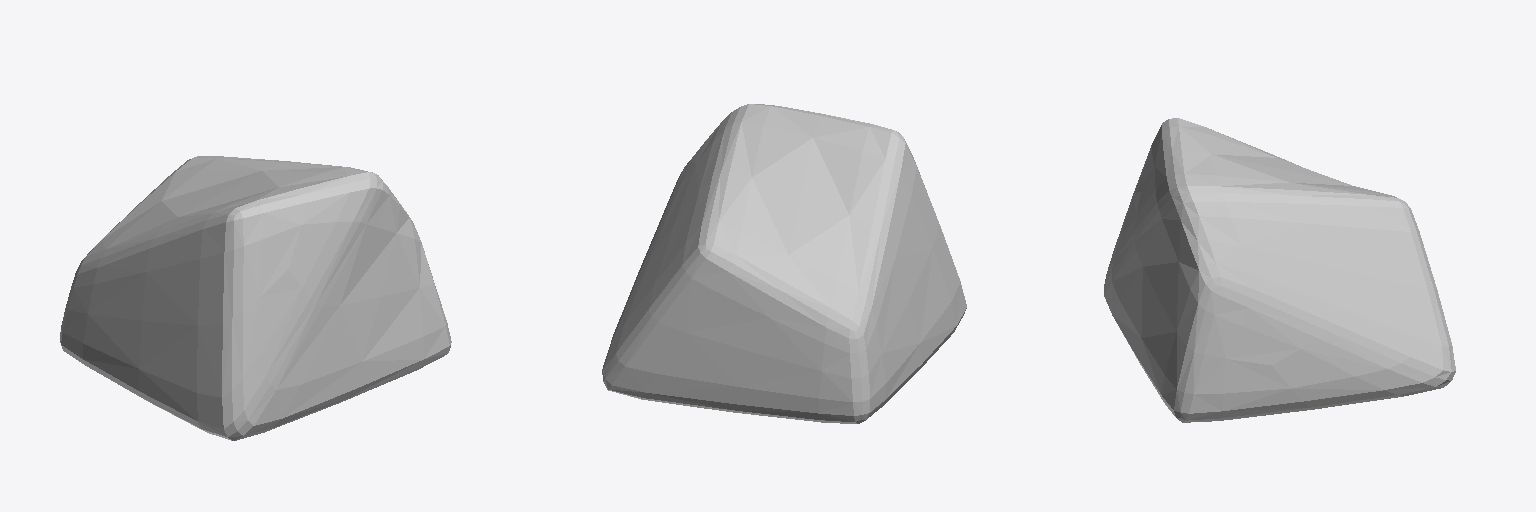
File: rock_tree3_03.obj
3 renders of one model, left to right at view 1: azimuth 30°, elevation 25°; view 2: azimuth 150°, elevation 25°; view 3: azimuth 270°, elevation 25°, orthographic.
Parts seen in each view (by area): view 1: rock_tree3_03 Rocks; view 2: rock_tree3_03 Rocks; view 3: rock_tree3_03 Rocks.
Boxes of the visible parts, x1,y1,x2,y2 form: rock_tree3_03 Rocks: [60, 156, 451, 440]; rock_tree3_03 Rocks: [602, 104, 966, 423]; rock_tree3_03 Rocks: [1104, 118, 1455, 422].
Bounding box in the file's own units: 0.3095 × 0.2094 × 0.3188.